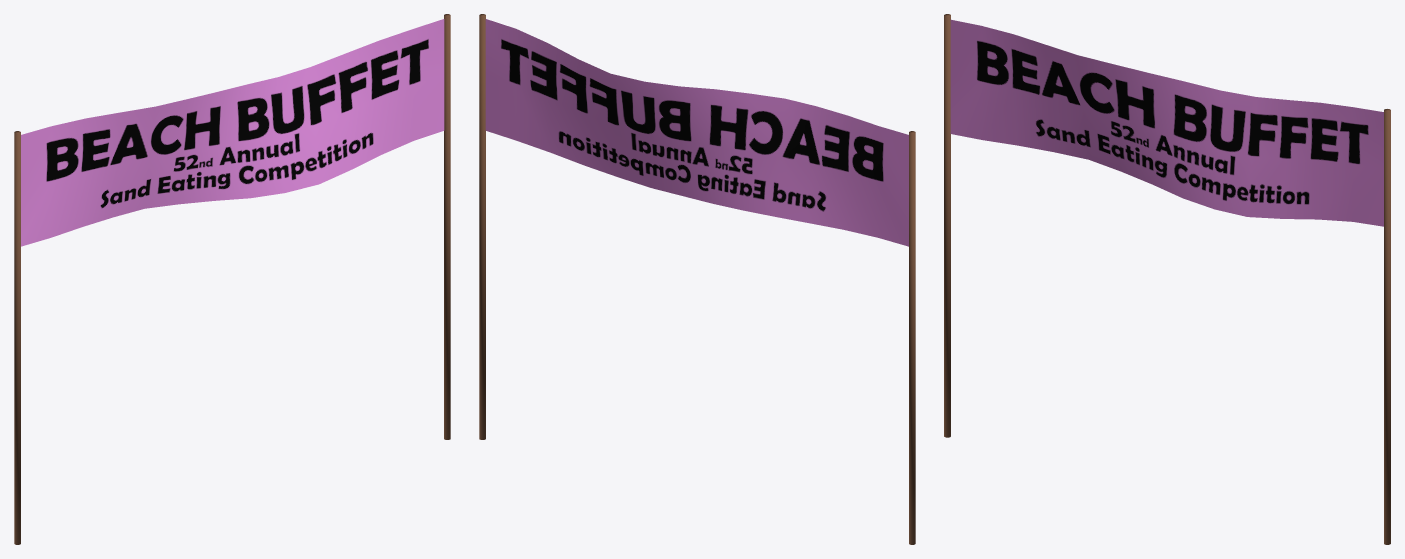
Rendered from Banner.fbx.
3 renders of one model, left to right at view 1: azimuth 30°, elevation 25°; view 2: azimuth 150°, elevation 25°; view 3: azimuth 330°, elevation 25°, orthographic. The views are drawn at different scales.
Visible parts, largest first — view 1: Banner; view 2: Banner; view 3: Banner.
Boxes of the visible parts, <box> form: Banner: <box>14,14,450,544</box>; Banner: <box>479,14,915,544</box>; Banner: <box>944,14,1390,544</box>.
Bounding box in the file's own units: 791 × 734 × 34.1.
Materials: 1 (1 with a texture image).
